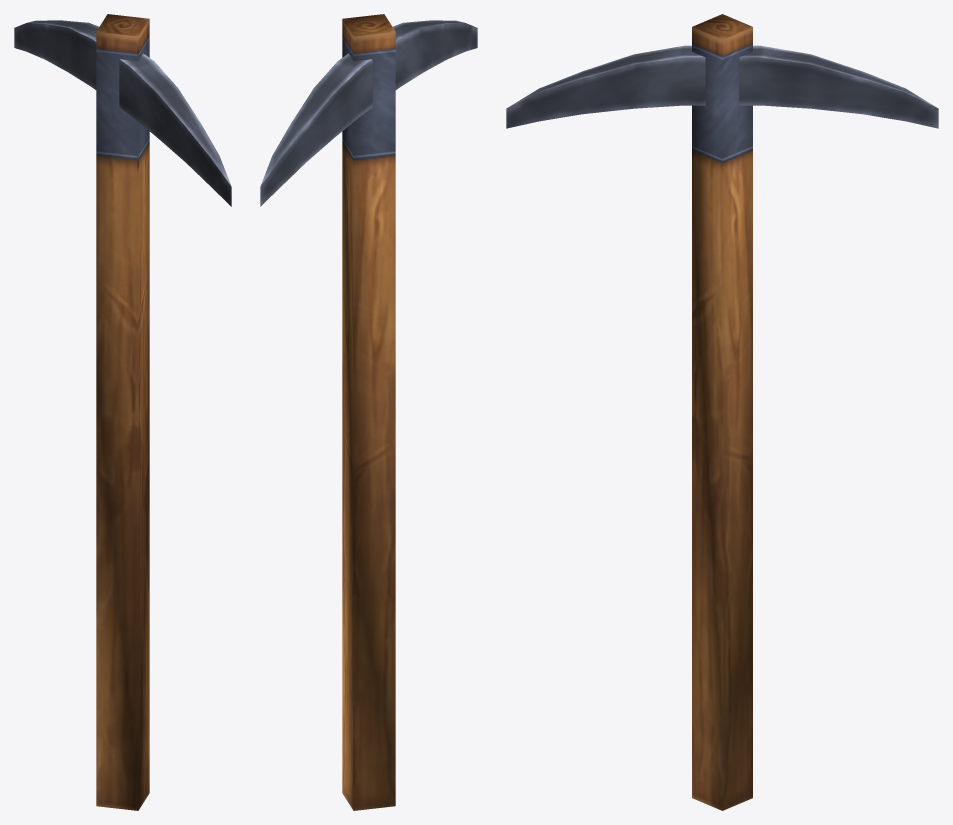
File: Pickaxe.FBX
3 views of the same model, side by side, from view 1: azimuth 30°, elevation 25°; view 2: azimuth 150°, elevation 25°; view 3: azimuth 270°, elevation 25° (orthographic).
Parts seen in each view (by area): view 1: Pickaxe; view 2: Pickaxe; view 3: Pickaxe.
Boxes of the visible parts, <box> form: Pickaxe: <box>14,14,231,810</box>; Pickaxe: <box>260,14,477,810</box>; Pickaxe: <box>506,14,938,810</box>.
Size of the model in its own units: 0.071 by 0.9864 by 0.5014.
